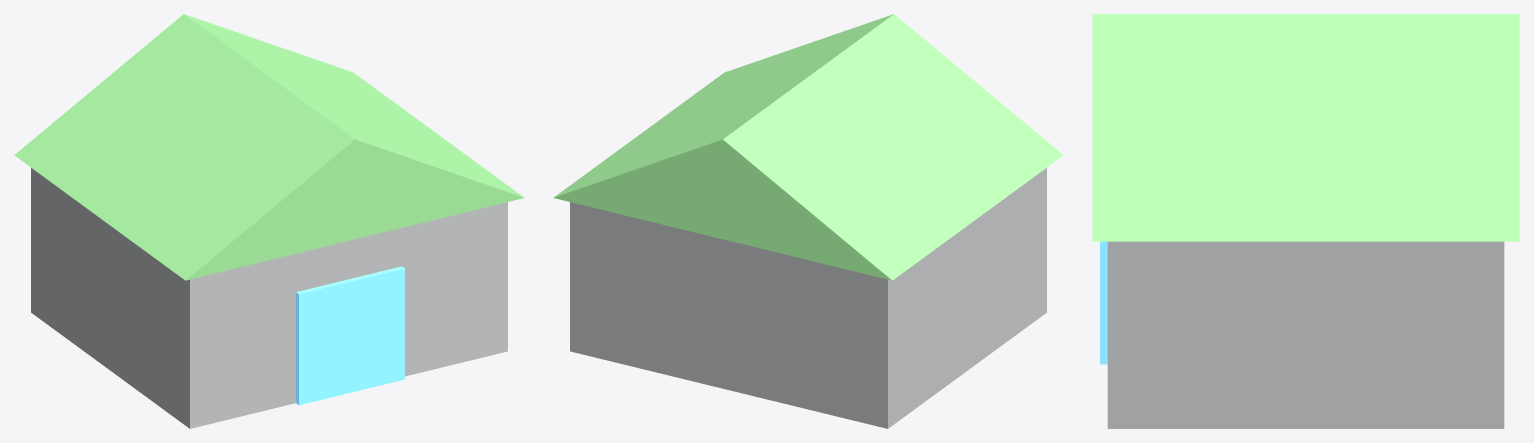
File: market.glb
The picture shows the model from 3 angles, left to right: view 1: azimuth 30°, elevation 25°; view 2: azimuth 150°, elevation 25°; view 3: azimuth 270°, elevation 25°; orthographic projection. The views are drawn at different scales.
Parts seen in each view (by area): view 1: market; view 2: market; view 3: market.
Part boxes in pixels (x1,y1,x2,y2): market: (14, 14, 524, 428); market: (553, 14, 1063, 428); market: (1092, 14, 1519, 428).
Size of the model in its own units: 1.6 by 1.15 by 1.4.
